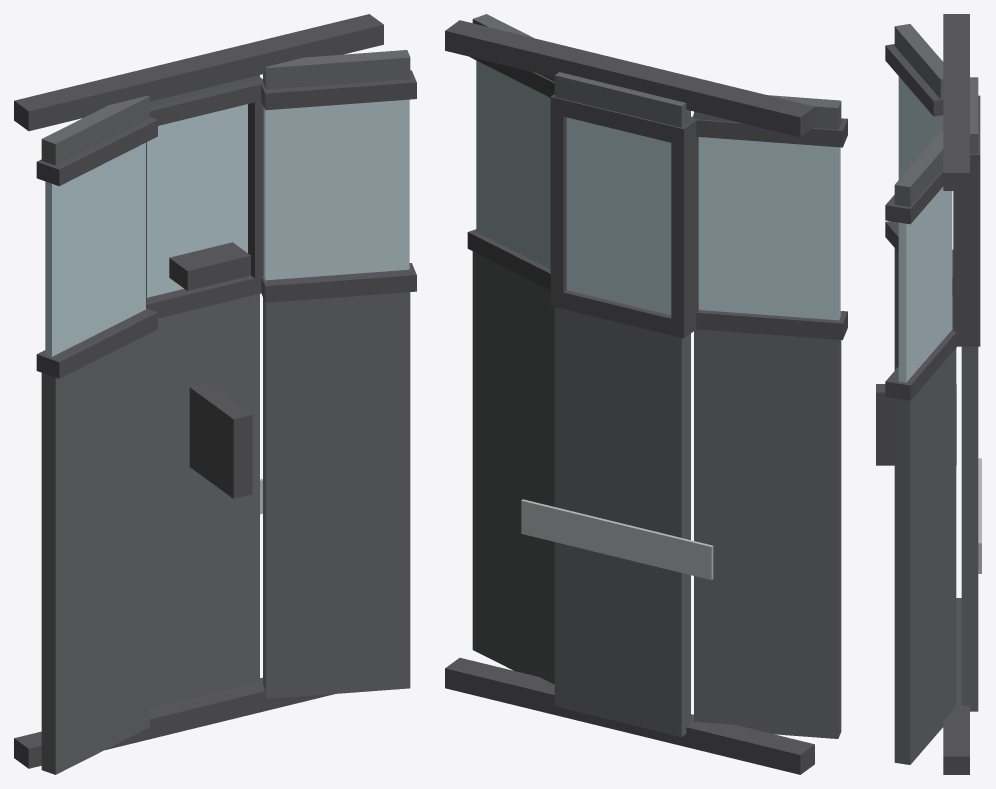
Rendered from stit.glb.
3 renders of one model, left to right at view 1: azimuth 30°, elevation 25°; view 2: azimuth 150°, elevation 25°; view 3: azimuth 270°, elevation 25°, orthographic. The views are drawn at different scales.
Parts seen in each view (by area): view 1: Stit; view 2: Stit; view 3: Stit.
Part boxes in pixels (left/top/right/bottom): Stit: left=14, top=14, right=416, bottom=774; Stit: left=445, top=14, right=847, bottom=774; Stit: left=876, top=14, right=981, bottom=774.
Bounding box in the file's own units: 0.591 × 0.99 × 0.1575.
